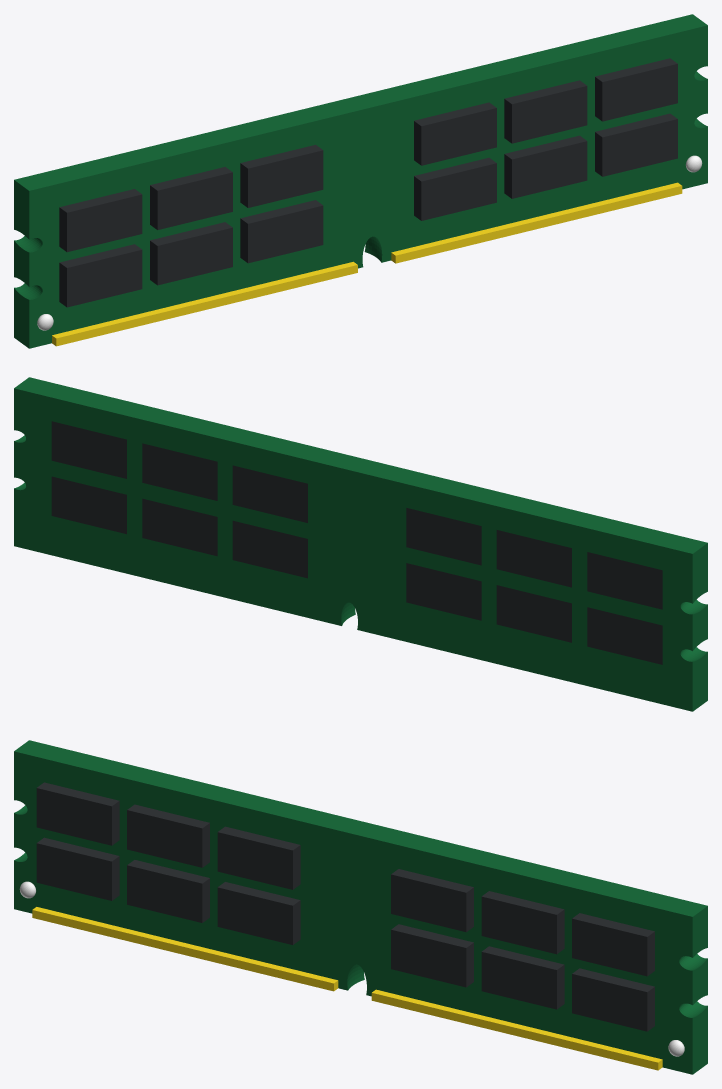
File: DDR1.fbx
3 renders of one model, top to bottom at view 1: azimuth 30°, elevation 25°; view 2: azimuth 150°, elevation 25°; view 3: azimuth 330°, elevation 25°, orthographic.
Visible parts, largest first — view 1: obj_0; view 2: obj_0; view 3: obj_0.
Boxes of the visible parts, box(x1,y1,x2,y2) form: obj_0: box(14, 14, 707, 348); obj_0: box(14, 377, 707, 711); obj_0: box(14, 740, 707, 1074).
Bounding box in the file's own units: 2.29 × 0.508 × 0.1334.
